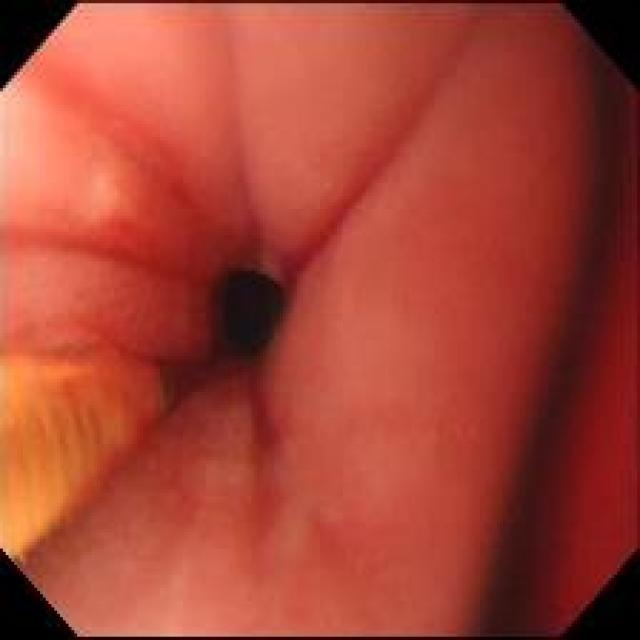contrast: (210, 259, 282, 361)
instrument: (0, 350, 186, 566)
